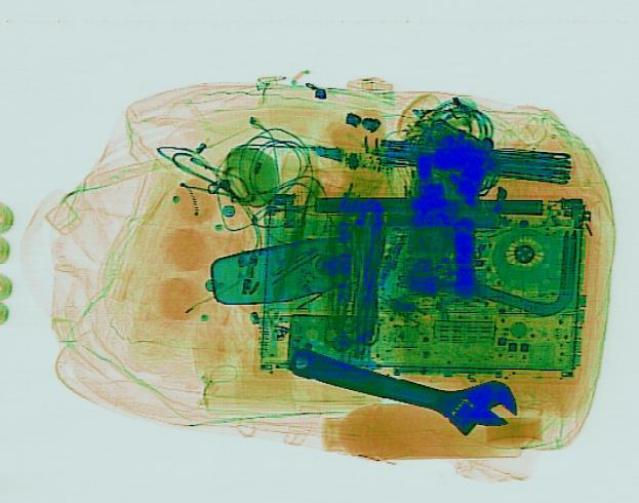Wrench: (277, 327, 528, 443)
